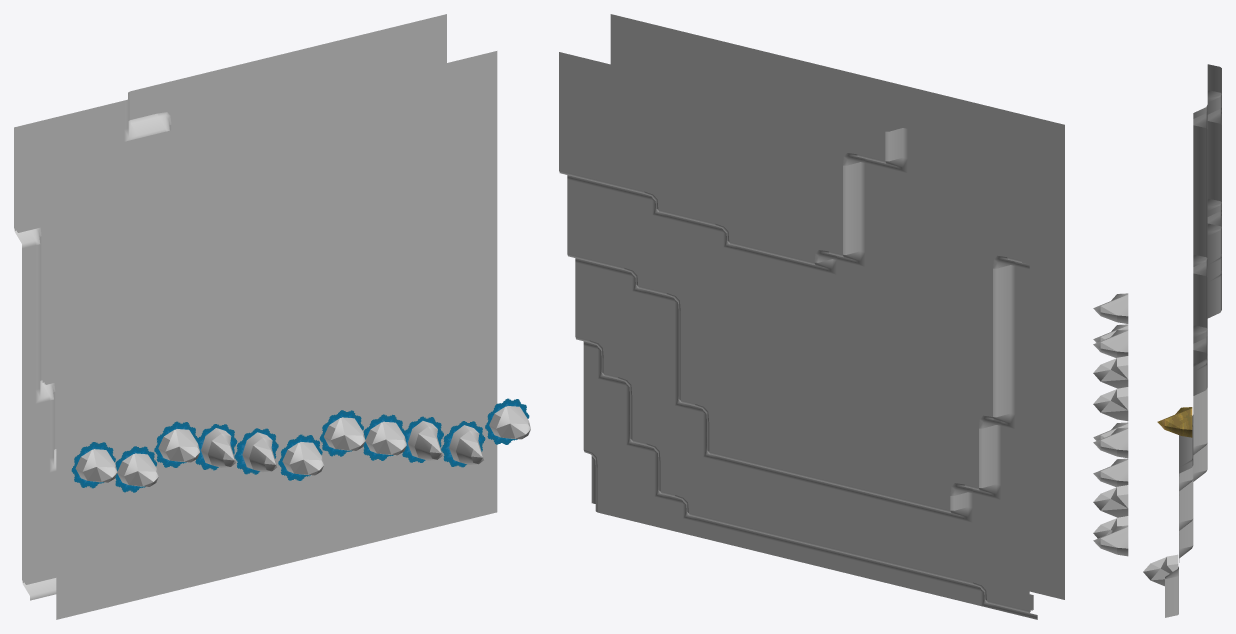
File: Barrier-Reef_04_00.obj
3 renders of one model, left to right at view 1: azimuth 30°, elevation 25°; view 2: azimuth 150°, elevation 25°; view 3: azimuth 270°, elevation 25°, orthographic. The views are drawn at different scales.
Visible parts, largest first — view 1: map; view 2: map; view 3: map.
Boxes of the visible parts, x1,y1,x2,y2 form: map: (14, 14, 530, 619); map: (559, 14, 1064, 619); map: (1093, 64, 1221, 617).
Bounding box in the file's own units: 34.11 × 32 × 9.04.
